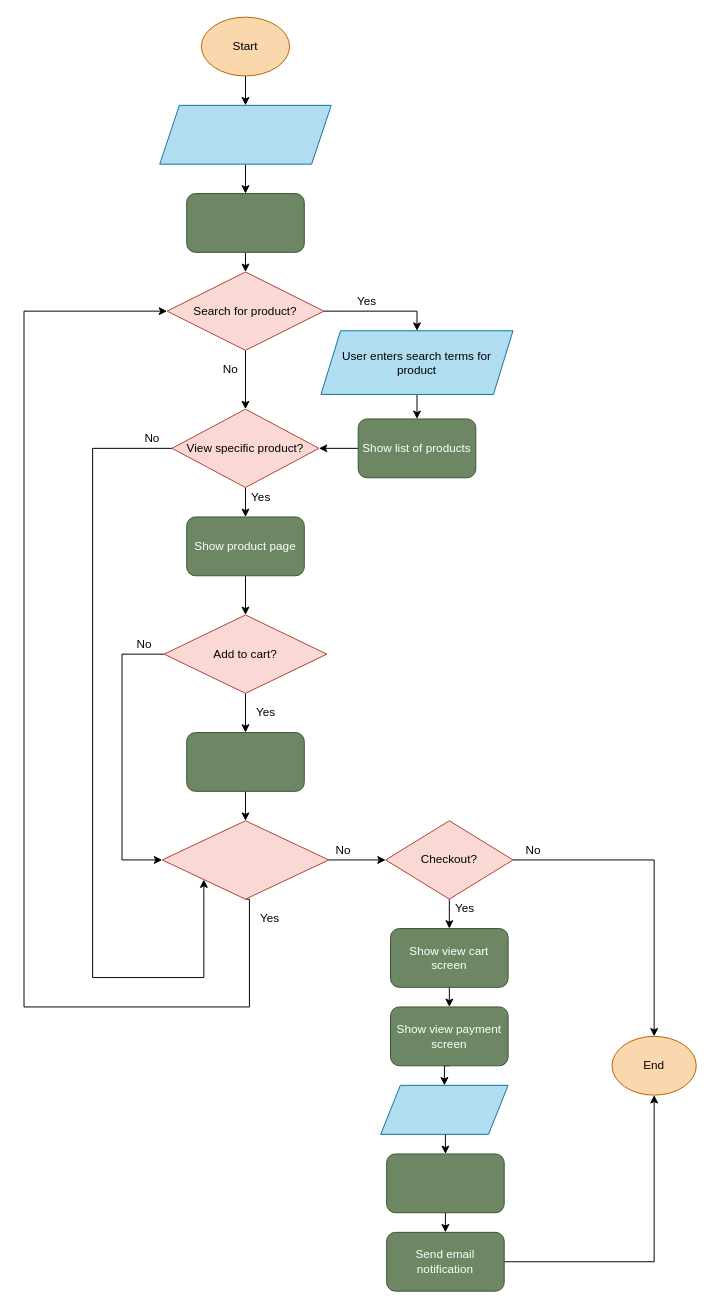
Image size: 713x1308. Some labels were removed from this diagram. Each missing label, with the centre of its shape:
Continue shopping?: [245,859]
Input payment info: [444,1109]
Order confirmation screen: [445,1183]
Send "Added to cart" notification: [245,761]
Show main webpage: [245,222]
User enters website: [245,134]
